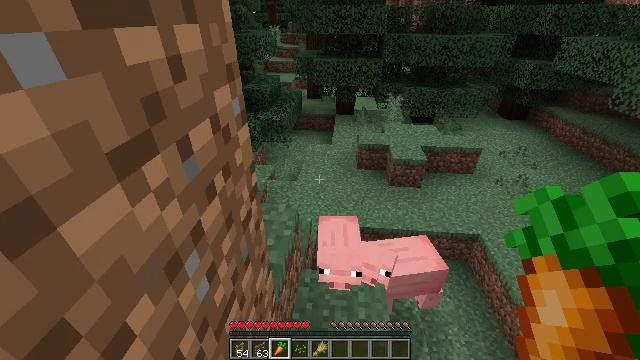pig: (365, 233, 447, 308), (318, 214, 363, 291)
